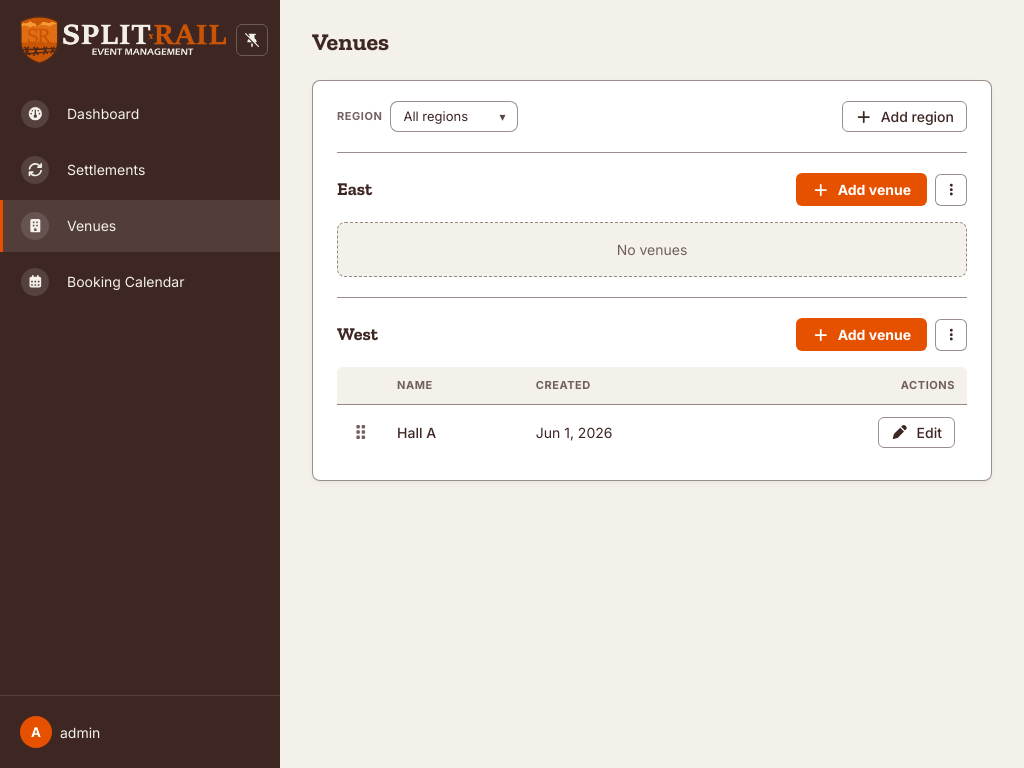
Scenario: VenuesPage › creates a venue via the Add venue modal tied to the correct region
Click the button "Add venue" in the row of "West": (862, 334) [796,318,927,351]
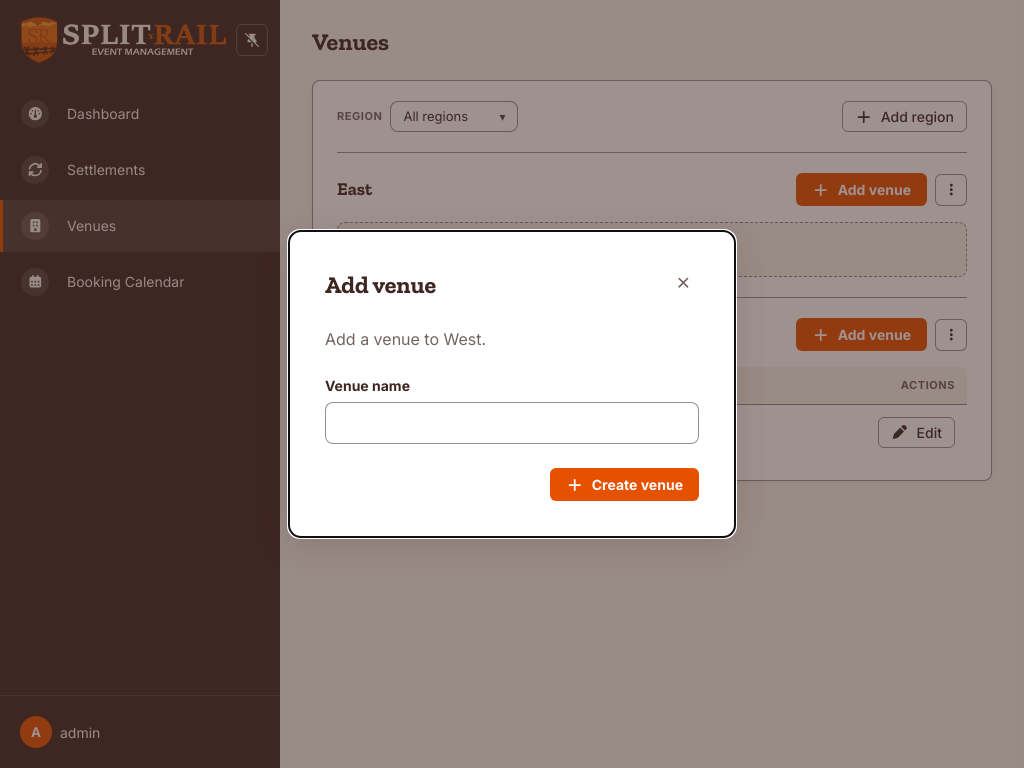
In the field labelled "Venue name": (512, 423) [325,402,699,444], type "The Roxy"
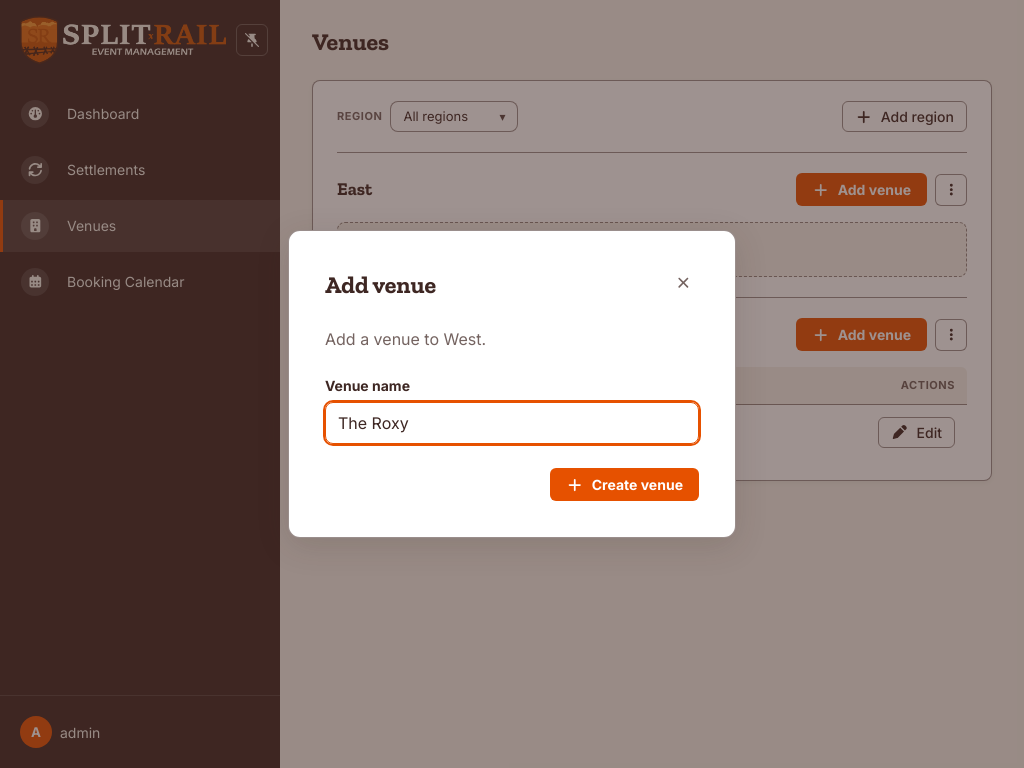
Click the button with test id "venue-add-save": (625, 484) [550,468,699,501]
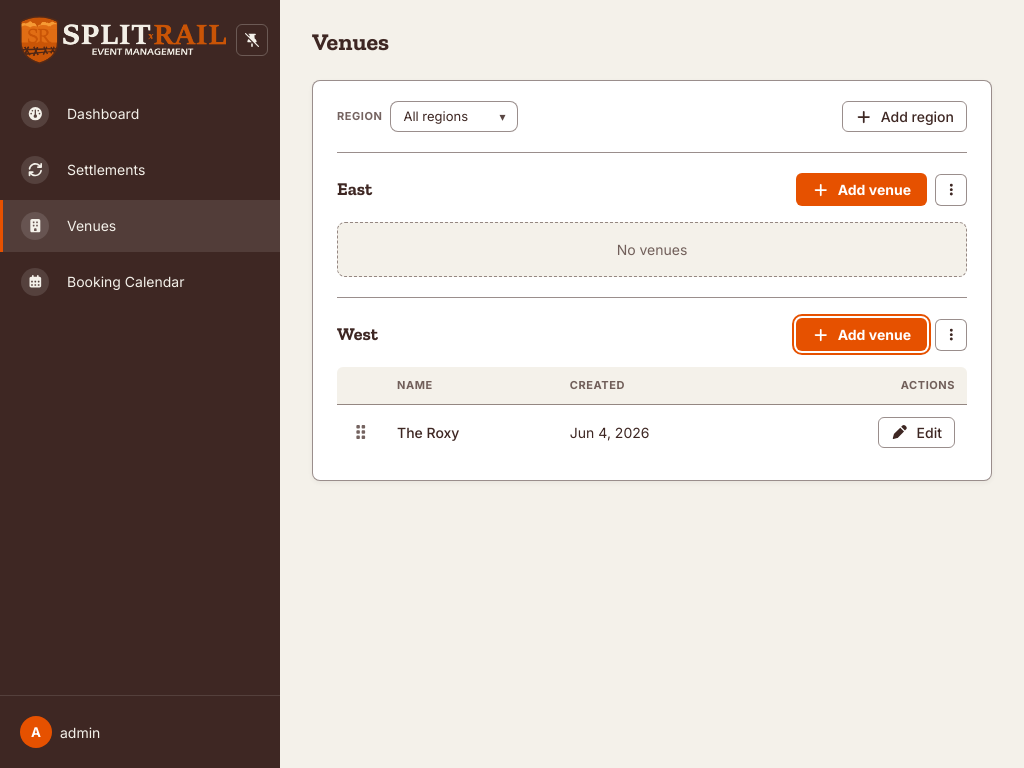
Expected: the dialog with test id "venue-add-modal" is gone
